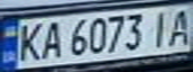0: (84, 15, 109, 55)
3: (121, 11, 151, 52)
6: (66, 16, 90, 56)
7: (106, 11, 127, 53)
A: (36, 18, 66, 60), (163, 6, 193, 46)
I: (145, 7, 175, 48)
K: (12, 20, 45, 63)
